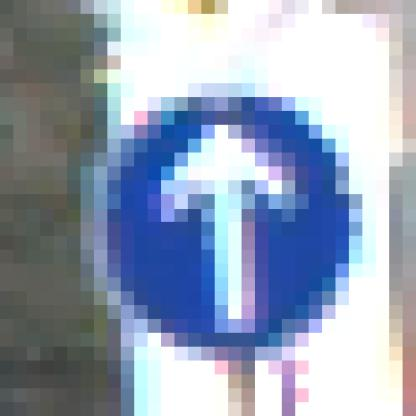AheadOnly: (82, 70, 337, 348)
